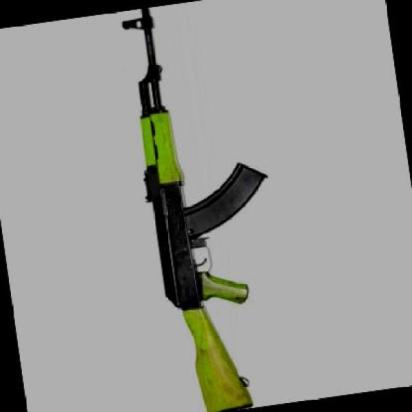Gun: (124, 0, 270, 412)
